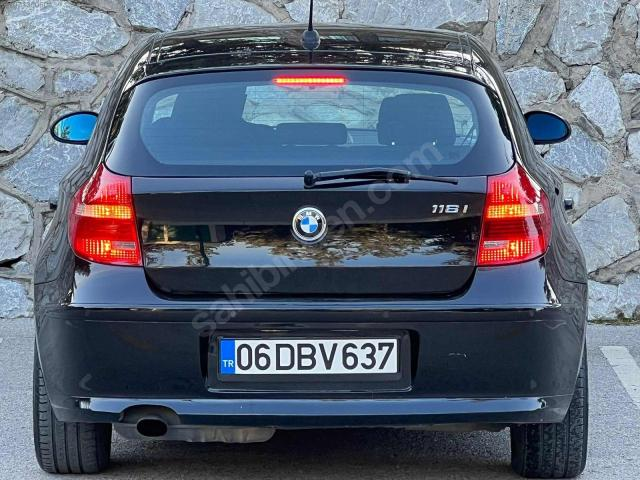plaka: (218, 338, 400, 379)
